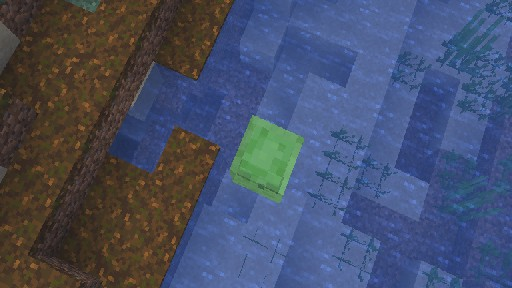slime: (229, 114, 304, 203)
